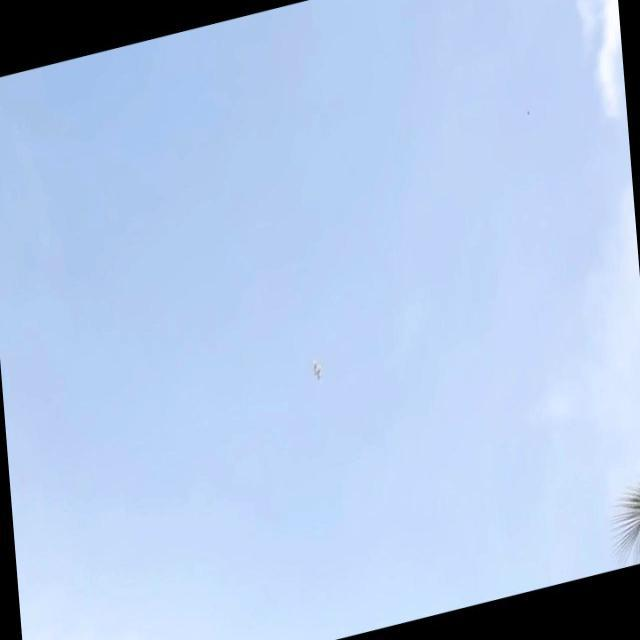drone: (310, 348, 324, 384)
